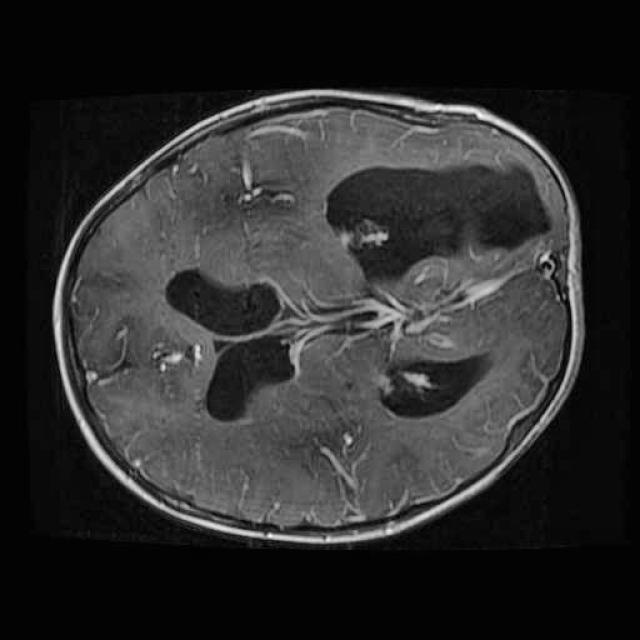Non-Tumor: (309, 146, 561, 281)
